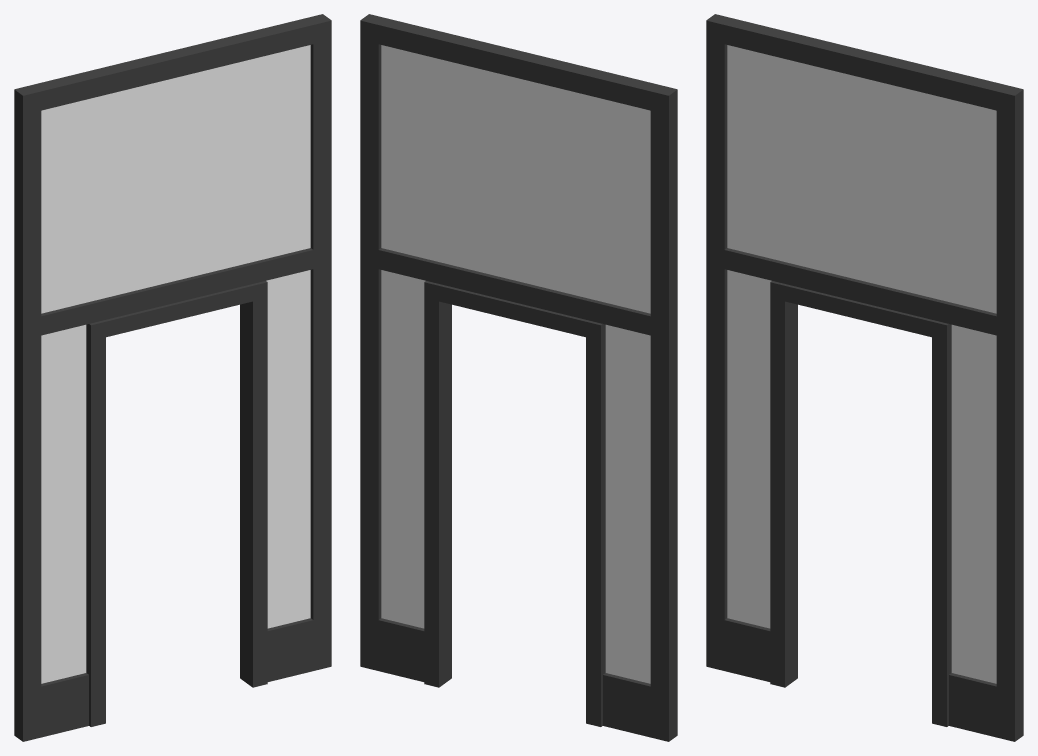
Rendered from wall_021.fbx.
3 views of the same model, side by side, from view 1: azimuth 30°, elevation 25°; view 2: azimuth 150°, elevation 25°; view 3: azimuth 330°, elevation 25° (orthographic).
Parts seen in each view (by area): view 1: wall_021; view 2: wall_021; view 3: wall_021.
Part boxes in pixels (<box>): wall_021: <box>14,14,331,741</box>; wall_021: <box>360,14,677,741</box>; wall_021: <box>706,14,1023,741</box>.
Size of the model in its own units: 200 by 14.38 by 400.
